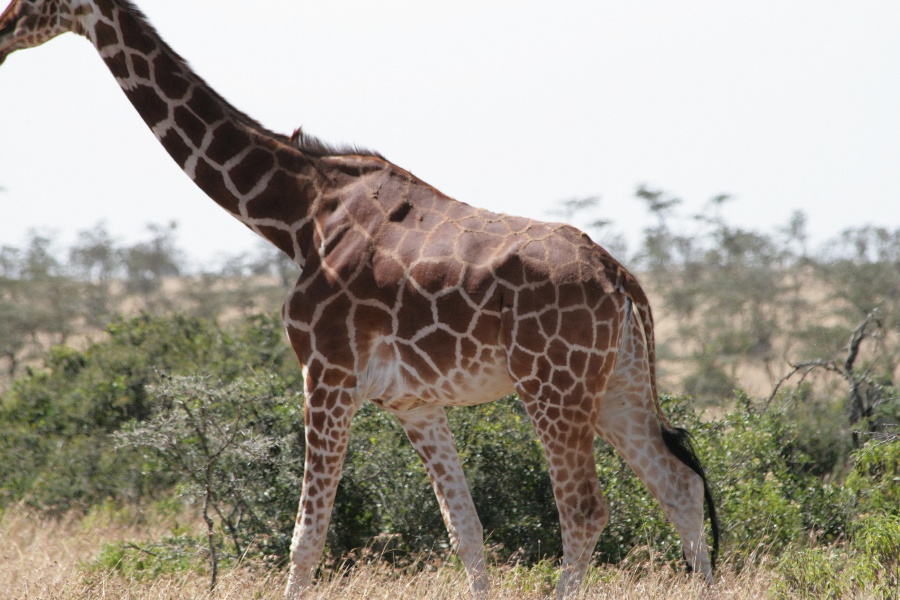giraffe: (0, 0, 724, 589)
